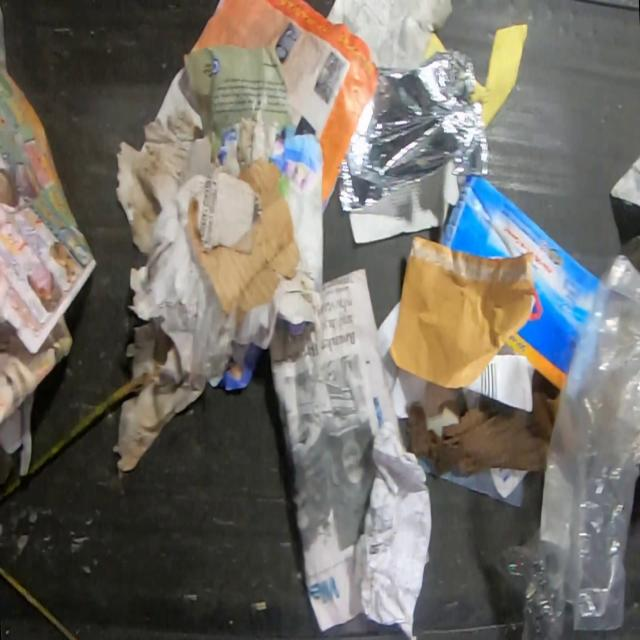cardboard: (188, 159, 300, 319)
soft_plastic: (503, 253, 640, 639), (335, 48, 488, 214)
